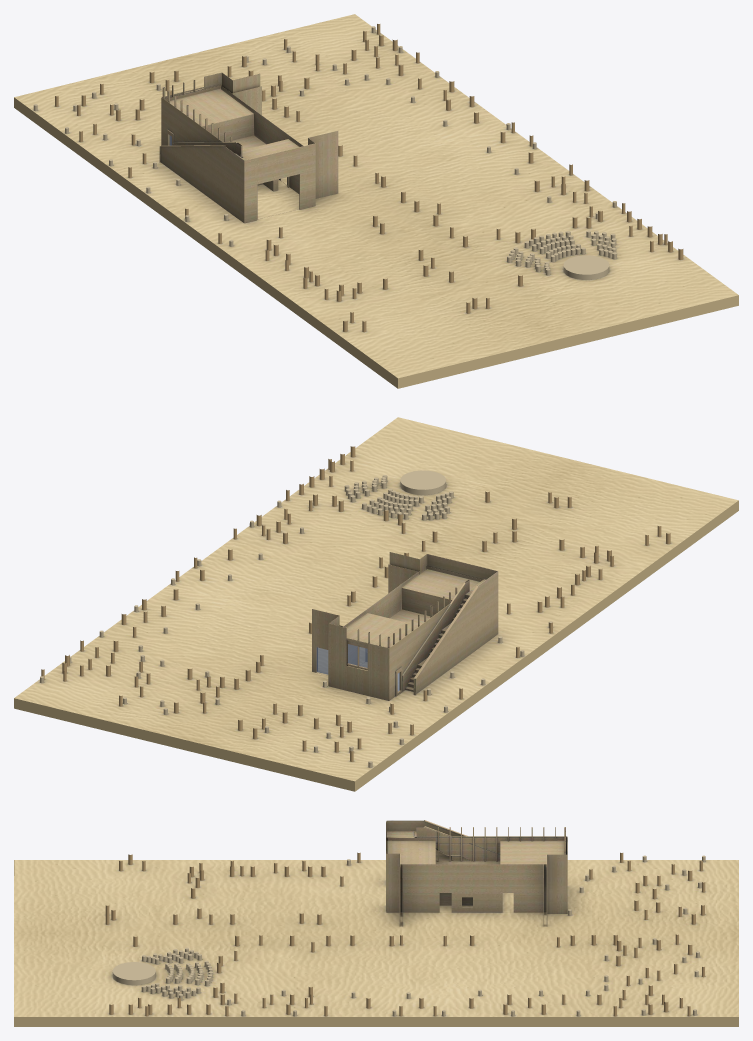
The model's file is EXPO_21_v4_optimized.gltf.
3 renders of one model, top to bottom at view 1: azimuth 30°, elevation 25°; view 2: azimuth 150°, elevation 25°; view 3: azimuth 270°, elevation 25°, orthographic. The views are drawn at different scales.
Visible parts, largest first — view 1: Ground_21, INS_21, CLT_21, PRO_21; view 2: Ground_21, INS_21, CLT_21, PRO_21, WINS_21; view 3: Ground_21, CLT_21, INS_21, PRO_21.
Part boxes in pixels (bbox=[...]): Ground_21: bbox=[14, 14, 738, 388]; INS_21: bbox=[159, 72, 338, 223]; CLT_21: bbox=[162, 80, 303, 219]; PRO_21: bbox=[563, 255, 609, 279]; Ground_21: bbox=[14, 417, 738, 791]; INS_21: bbox=[312, 552, 498, 700]; CLT_21: bbox=[317, 564, 485, 691]; PRO_21: bbox=[400, 470, 445, 494]; WINS_21: bbox=[316, 644, 399, 691]; Ground_21: bbox=[14, 860, 738, 1026]; CLT_21: bbox=[386, 826, 565, 926]; INS_21: bbox=[386, 820, 567, 926]; PRO_21: bbox=[112, 962, 155, 985].
Bounding box in the file's own units: 13.53 × 2.79 × 26.39.
7 materials, 5 textured.
